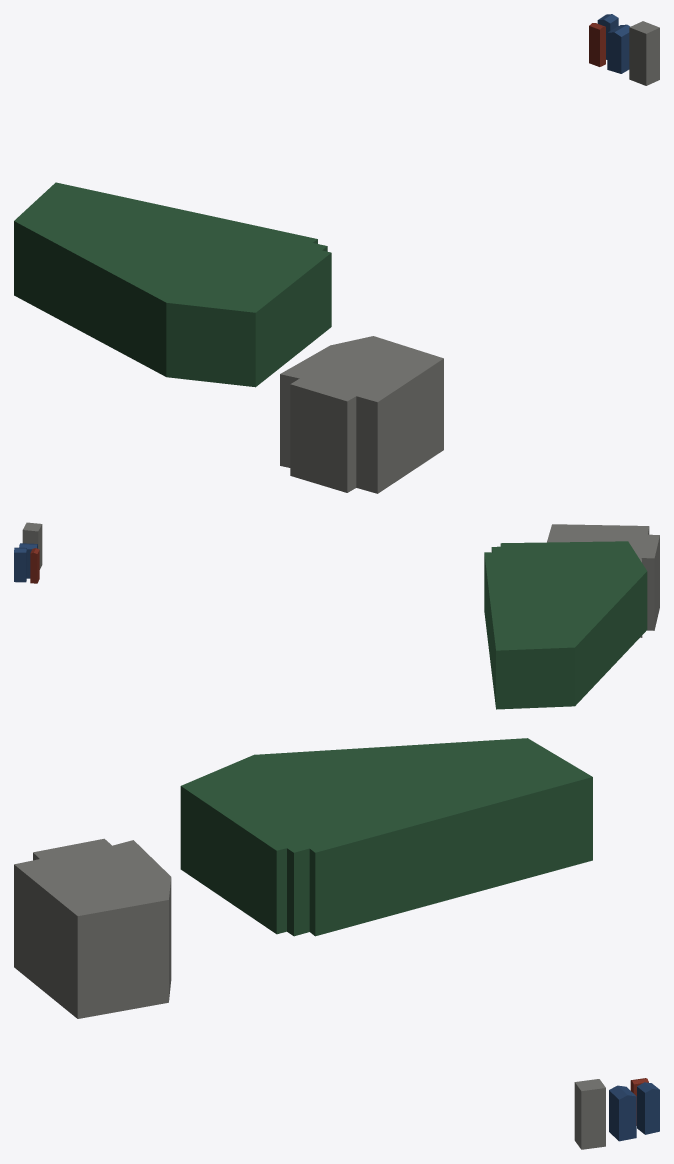
File: near-15-27356-14882.ee1757c2.glb
3 views of the same model, one above another, from view 1: azimuth 30°, elevation 25°; view 2: azimuth 150°, elevation 25°; view 3: azimuth 270°, elevation 25° (orthographic). The views are drawn at different scales.
Bounding box in the file's own units: 303 × 65.06 × 225.
